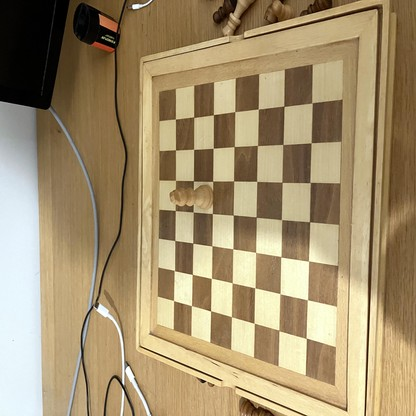king_white: (171, 186, 213, 210)
pawn_black: (212, 0, 235, 21)
